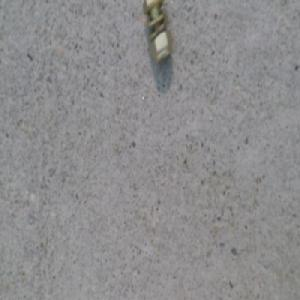BoltNutSet: (146, 6, 173, 73)
